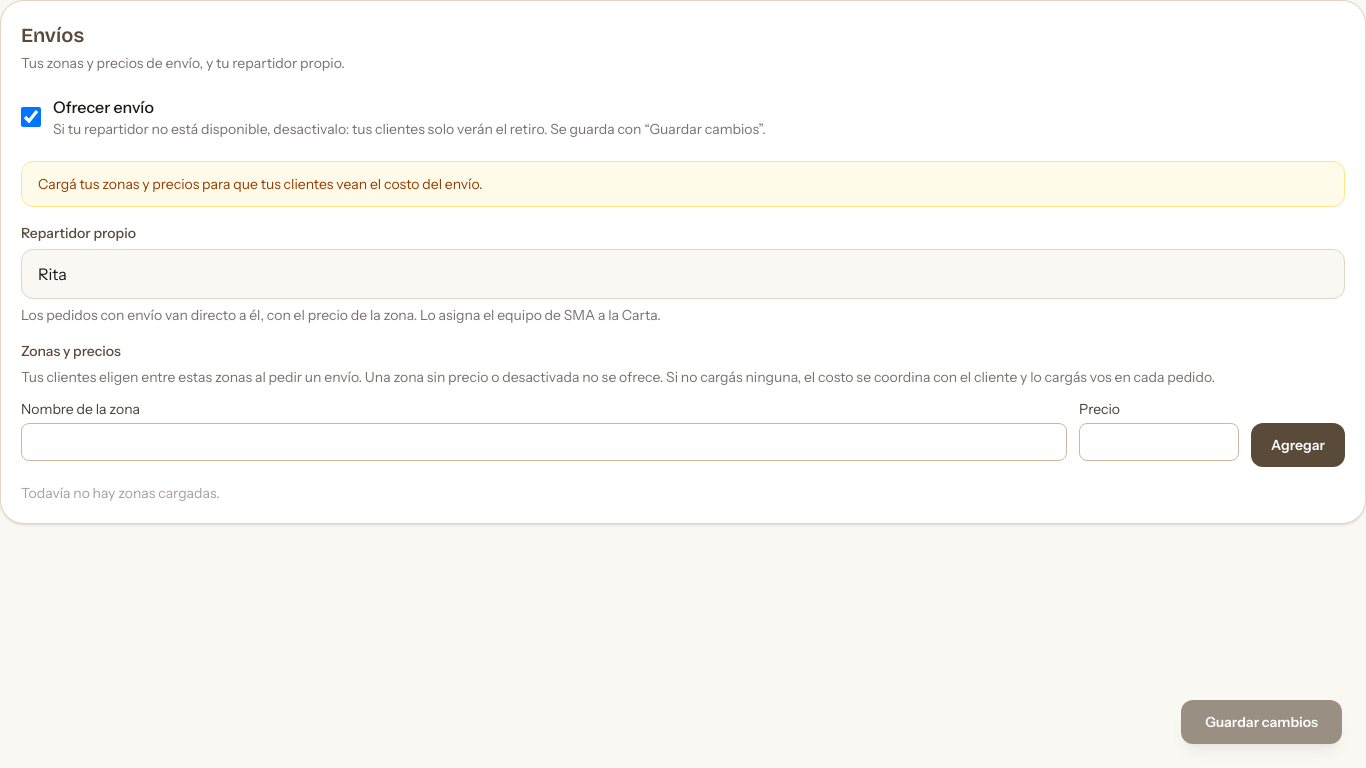
Scenario: Configuración → Envíos con envío propio — ENVIO-260 › no agrega una zona sin nombre ni con un precio inválido
This screenshot has width=1366, height=768.
Click the button "Agregar".
click(1298, 445)  # box 1251,423 -> 1345,467
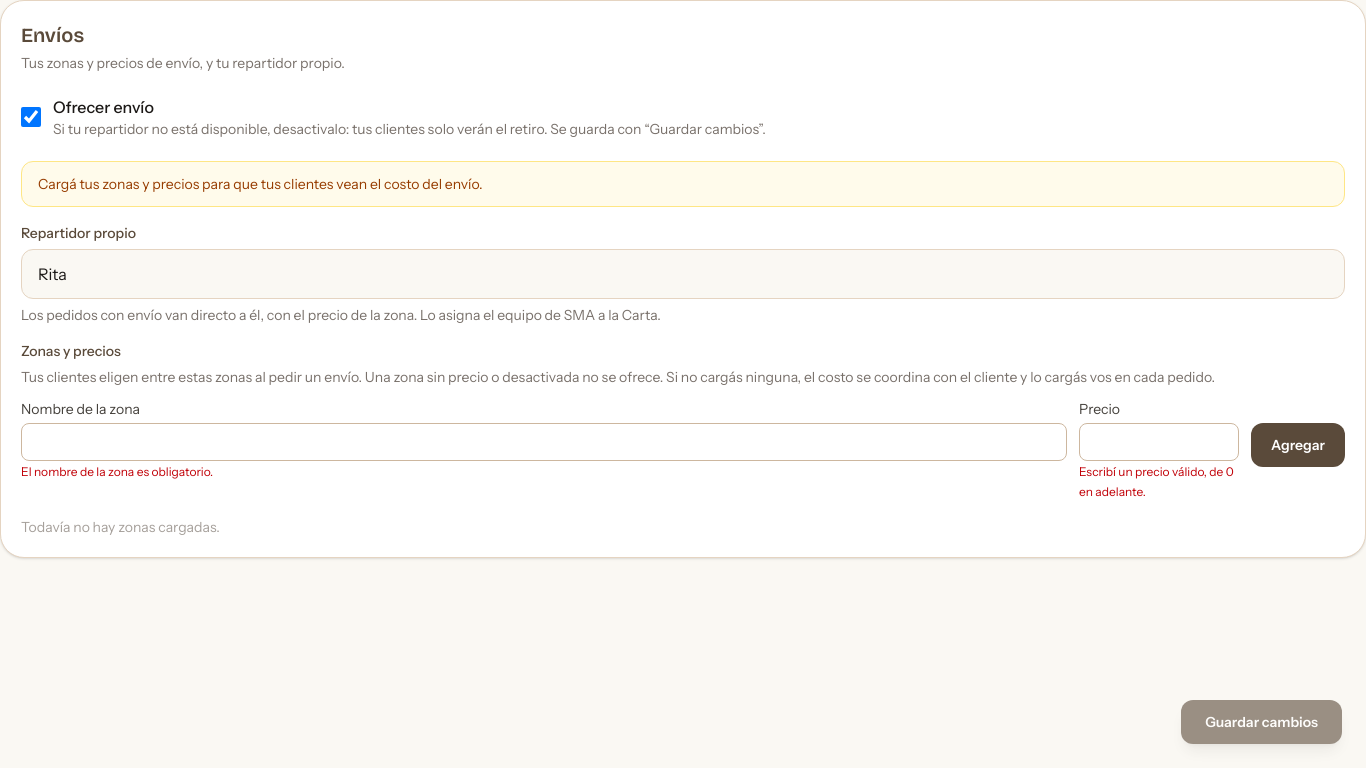
Check: the text "El nombre de la zona es obligatorio." is shown, box 21,464 -> 213,479
